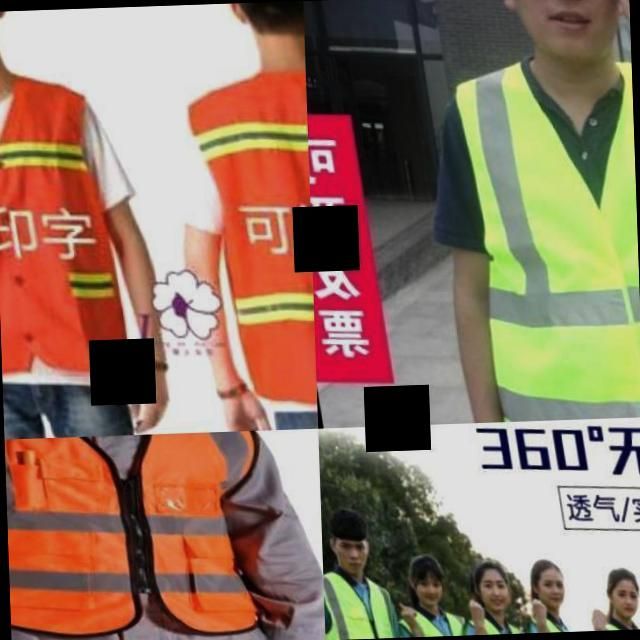vest: (446, 72, 640, 423), (4, 430, 283, 640), (192, 65, 318, 427), (0, 71, 118, 396), (324, 595, 388, 640)
